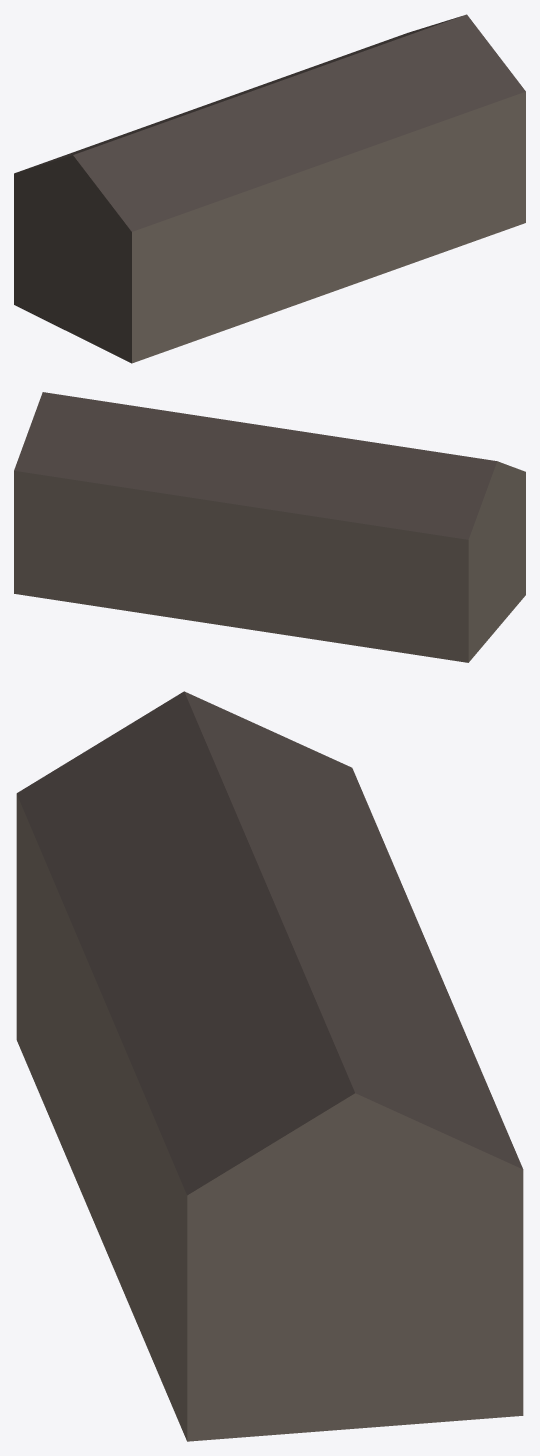
3 views of the same model, one above another, from view 1: azimuth 30°, elevation 25°; view 2: azimuth 150°, elevation 25°; view 3: azimuth 270°, elevation 25° (orthographic). The views are drawn at different scales.
Parts seen in each view (by area): view 1: HP-w1365659880; view 2: HP-w1365659880; view 3: HP-w1365659880.
Boxes of the visible parts, <box> form: HP-w1365659880: <box>14,14,525,363</box>; HP-w1365659880: <box>14,392,525,662</box>; HP-w1365659880: <box>16,691,523,1441</box>.
Size of the model in its own units: 22.36 by 8.18 by 11.2.
